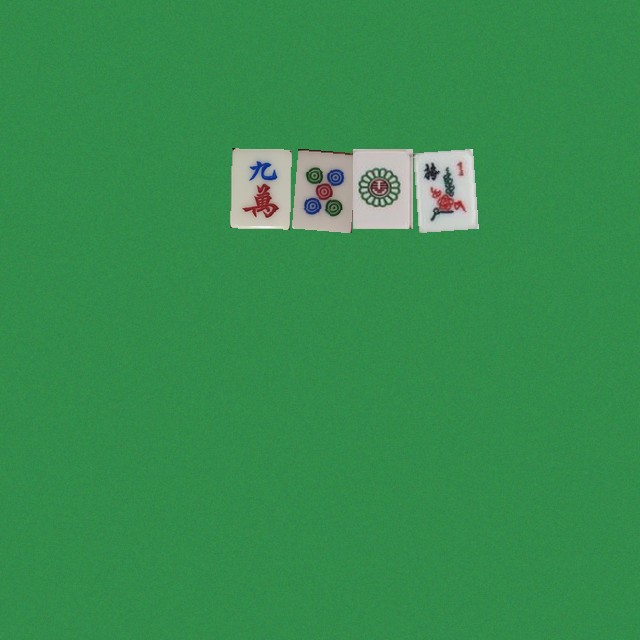tile: (230, 148, 290, 228), (291, 148, 351, 228), (352, 148, 412, 228), (413, 148, 473, 228)
